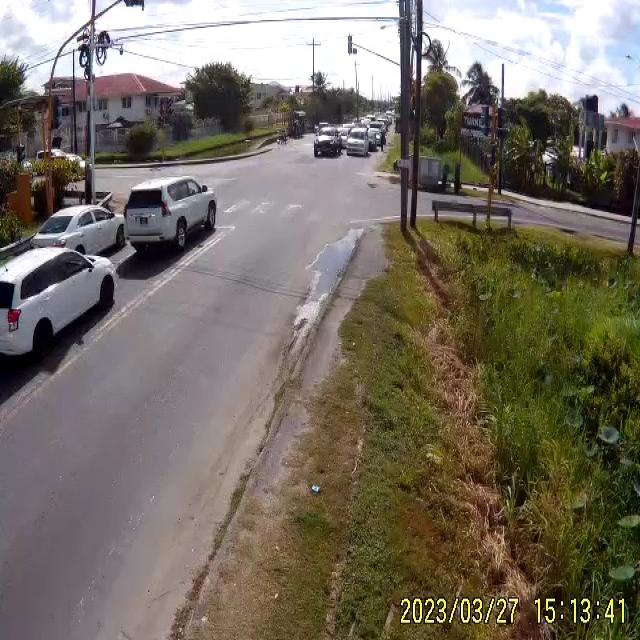car: (0, 241, 118, 371), (124, 176, 218, 255), (31, 204, 126, 257), (313, 133, 341, 158), (343, 133, 368, 155), (366, 126, 384, 150)
